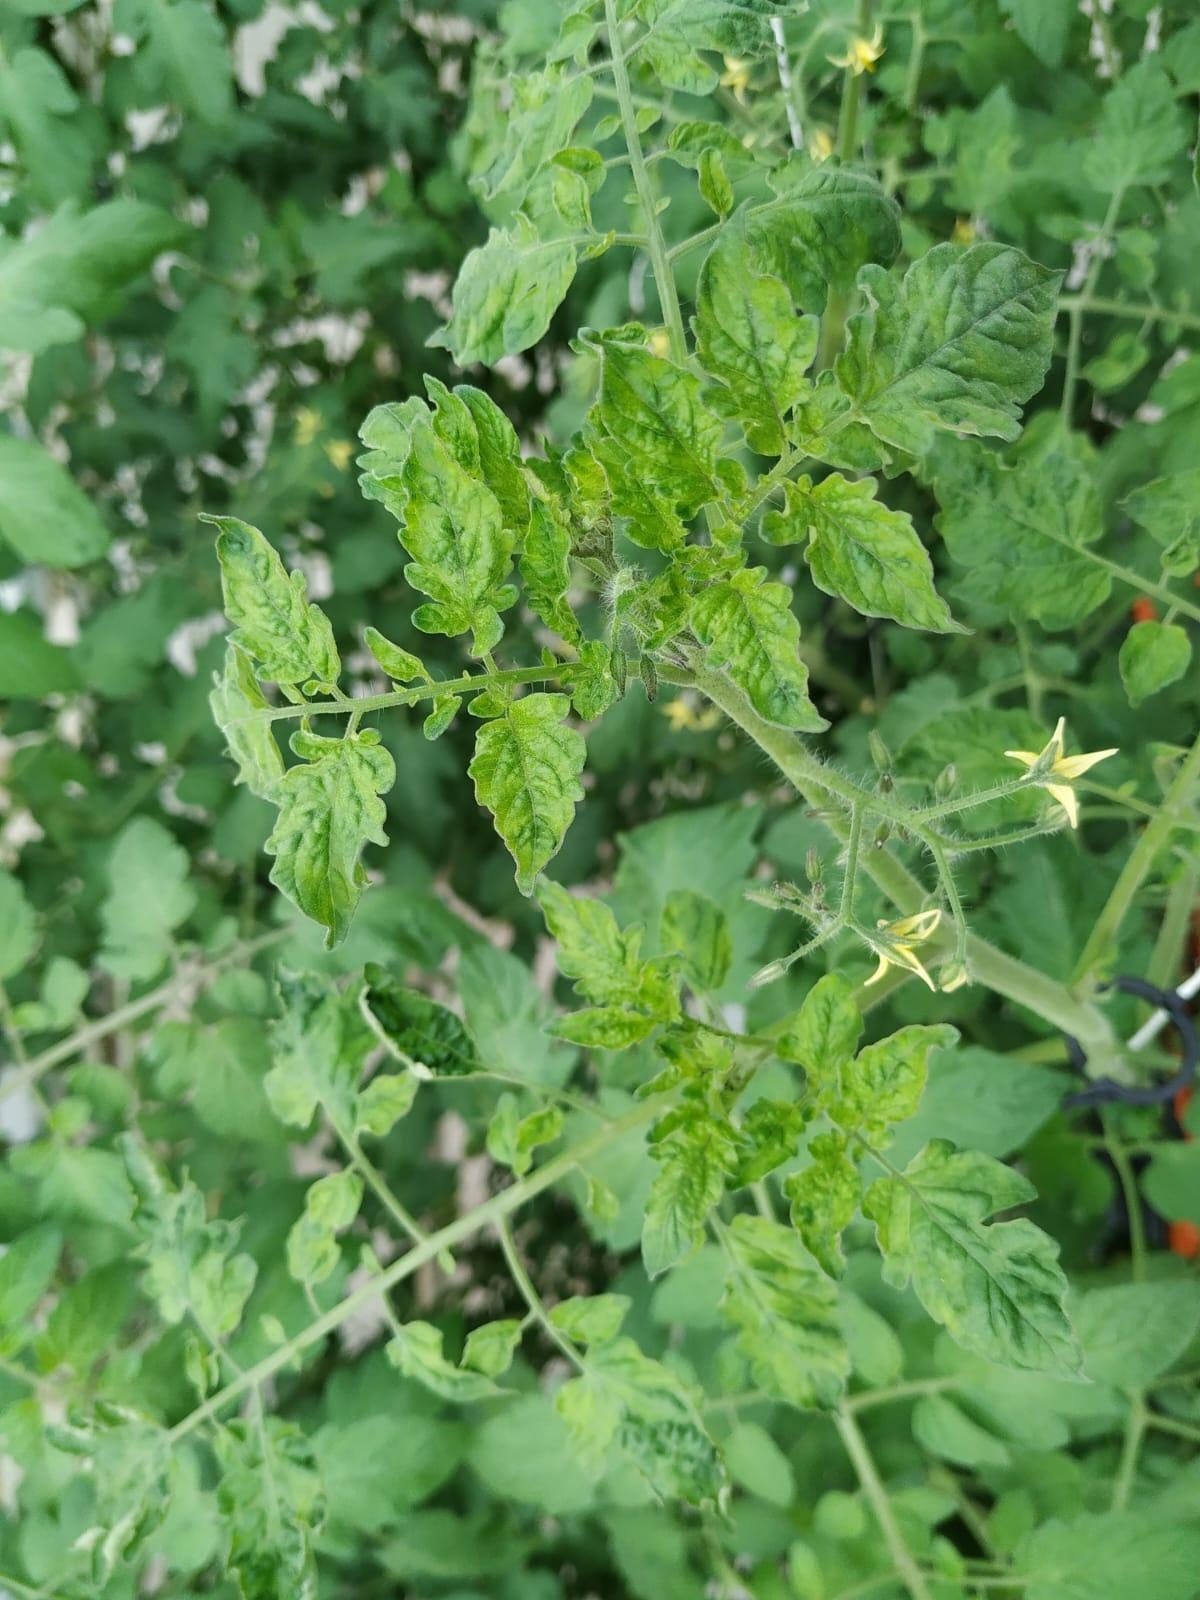Rugose leaf: (862, 1140, 1082, 1374), (834, 243, 1059, 454), (763, 472, 959, 630), (693, 226, 819, 456), (262, 728, 393, 947), (397, 420, 516, 655), (198, 513, 338, 693), (591, 338, 722, 519), (466, 693, 584, 893), (691, 568, 824, 731), (828, 1026, 957, 1146)
